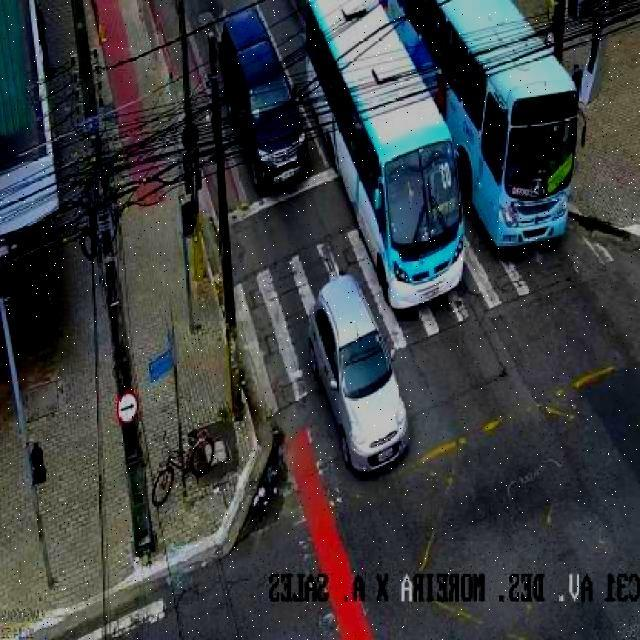Bus: (298, 0, 473, 310), (381, 0, 587, 262)
Car: (306, 274, 413, 474), (215, 6, 316, 198)
Cycle: (150, 429, 215, 507)
